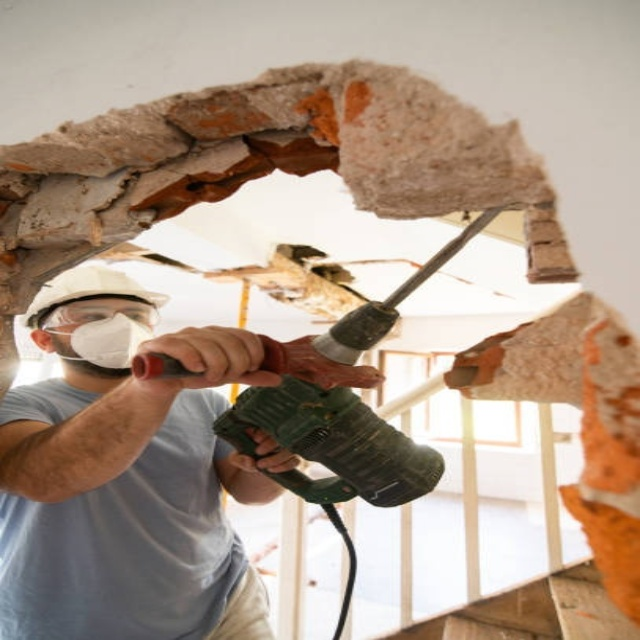Gafas: (39, 303, 159, 335)
Mascara: (62, 312, 158, 370)
Sin_guantes: (135, 324, 281, 393), (233, 422, 310, 476)
